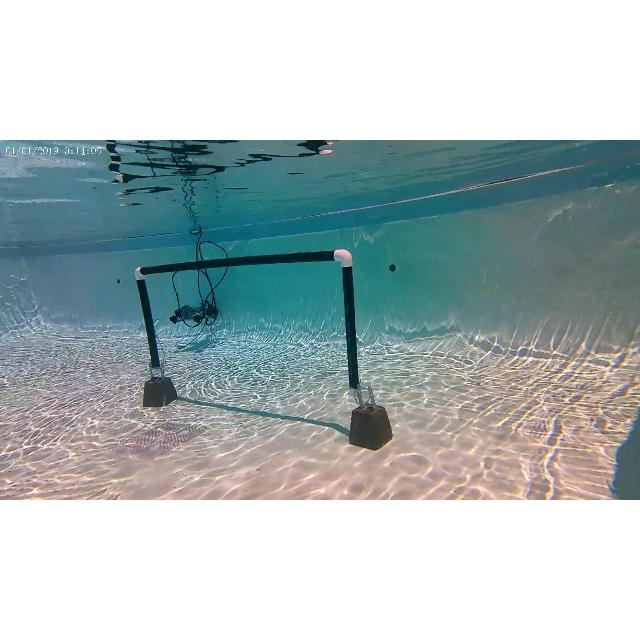prequal gate: (133, 248, 363, 399)
prequal gate leg l: (135, 264, 169, 378)
prequal gate leg r: (332, 248, 362, 402)
